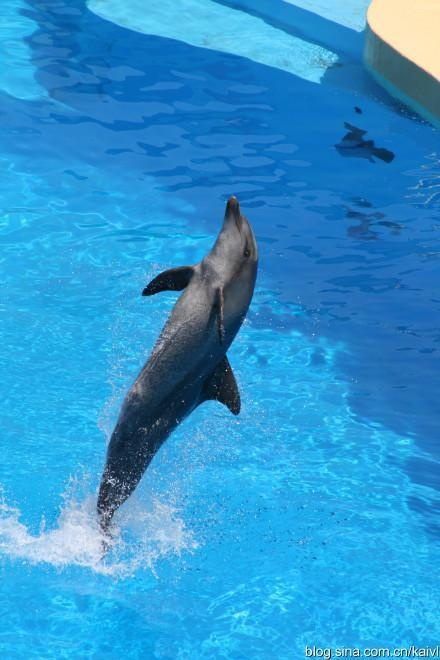fish: (97, 192, 259, 546)
